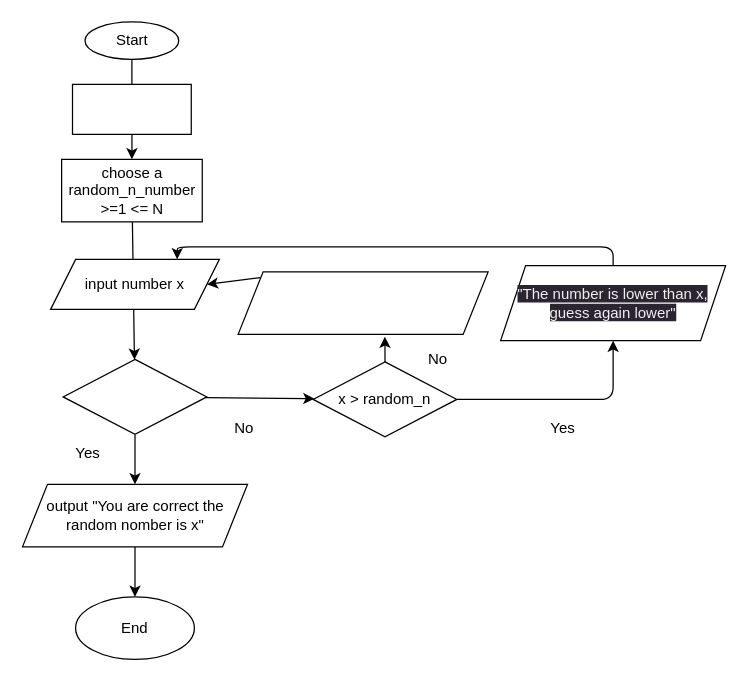
This 748x681 diagram has some shape labels left out. Here are the shapes that lost their labels. From the top down, the centre of each, then its label:
pixel 131 108: set value to N
pixel 362 302: "The number is heigher than x, guess again higher"
pixel 134 396: x = random_n
